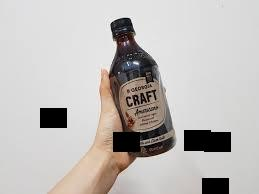georgiacraft_black: (98, 11, 181, 164)
